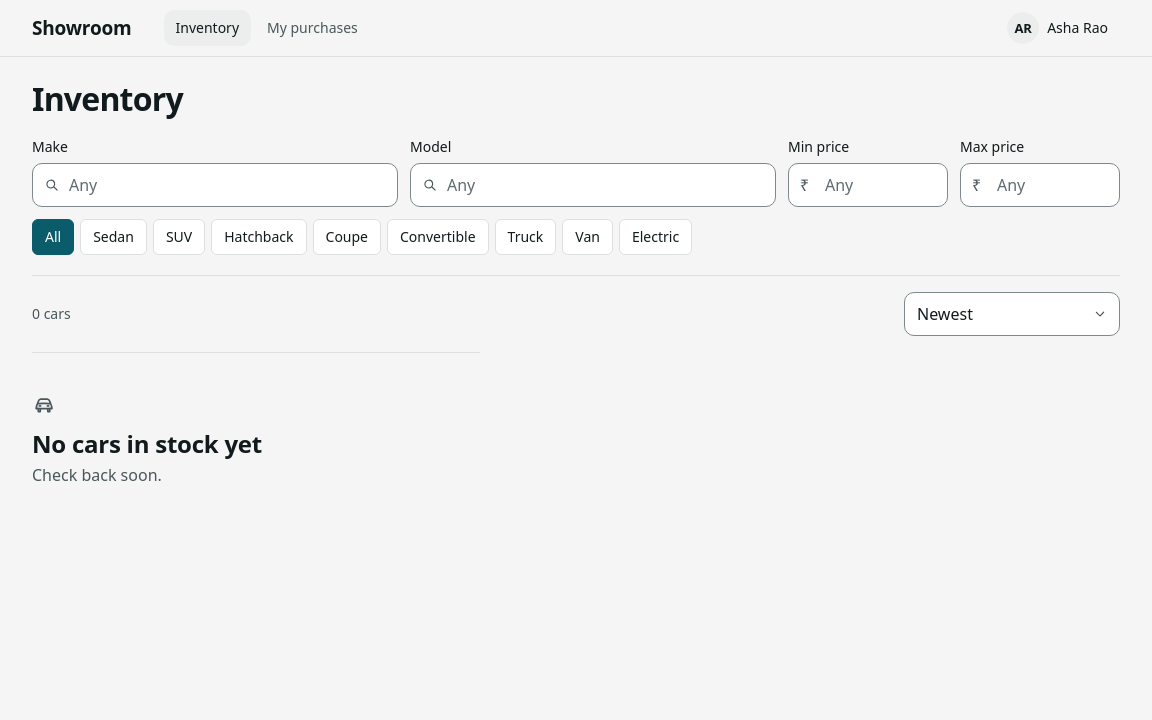
Scenario: session and route guards › signs out from the account menu
Click the button "AR Asha Rao" at (1062,28), box [1003,6,1120,50]
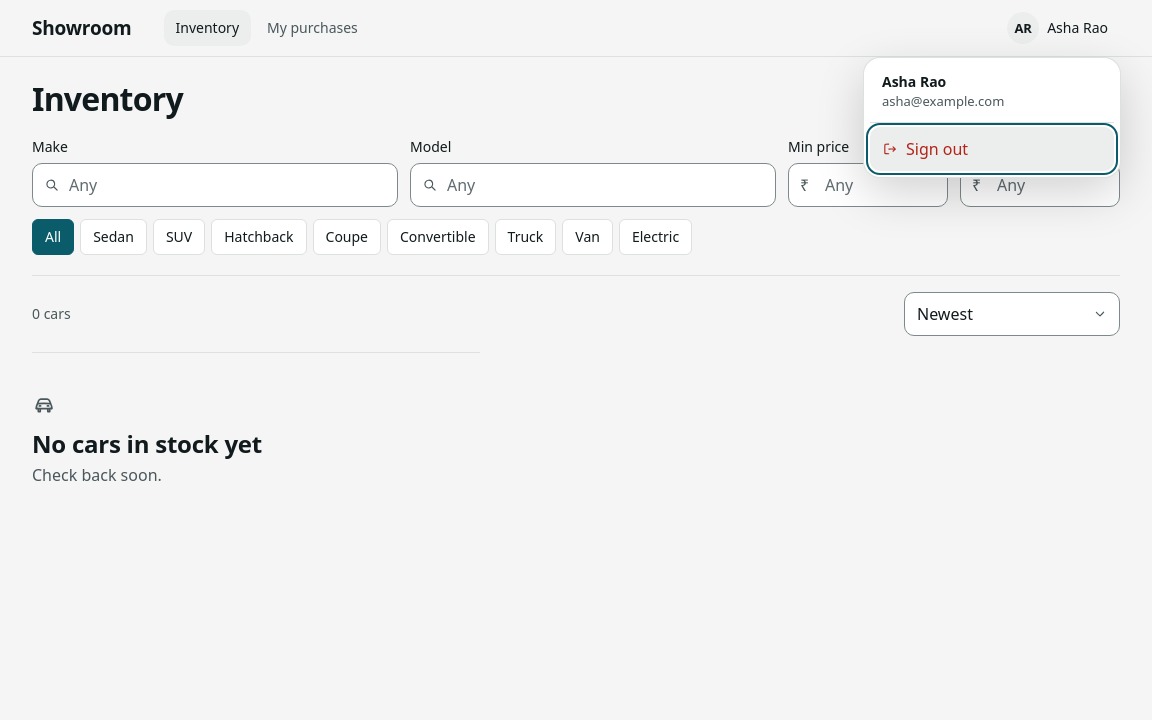
Click the menu item "Sign out" at (992,149), box [870,127,1114,171]
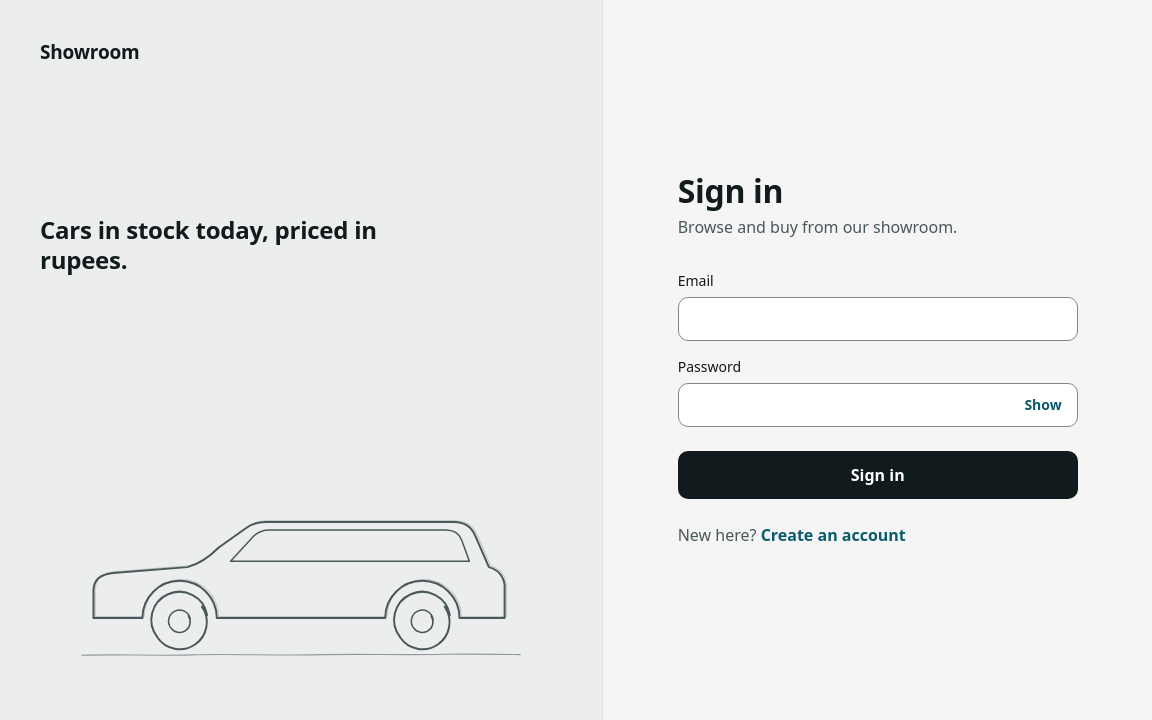
Now the heading "Sign in" is shown, box [678,169,783,212]
